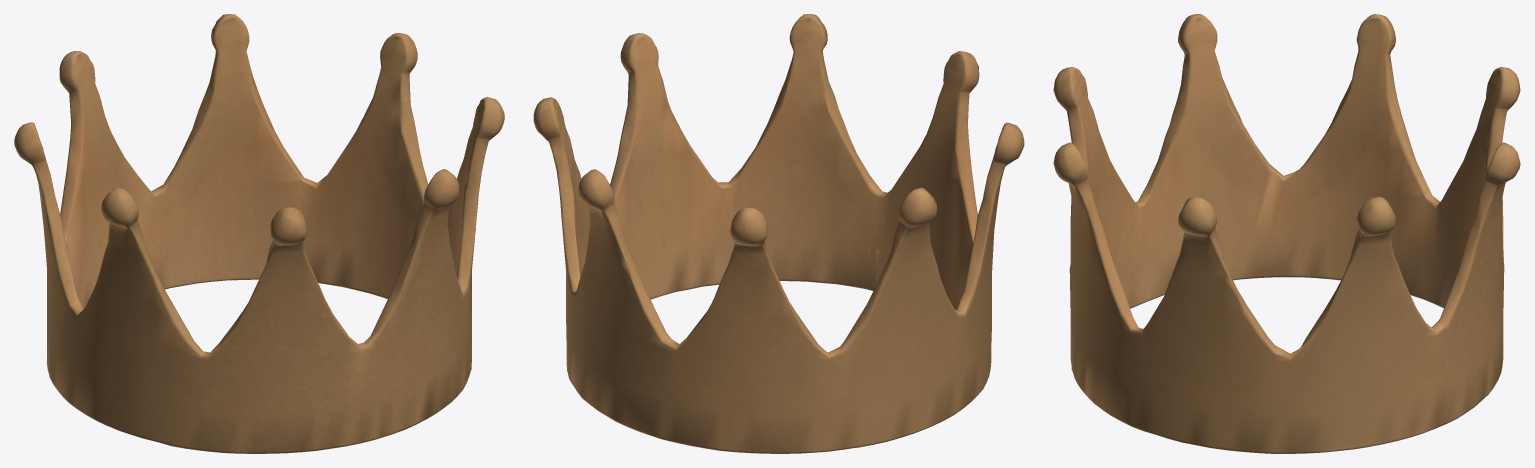
The model's file is well_crown_v1.glb.
3 renders of one model, left to right at view 1: azimuth 30°, elevation 25°; view 2: azimuth 150°, elevation 25°; view 3: azimuth 270°, elevation 25°, orthographic.
Size of the model in its own units: 1.91 by 1.17 by 1.91.
1 material, 1 textured.
